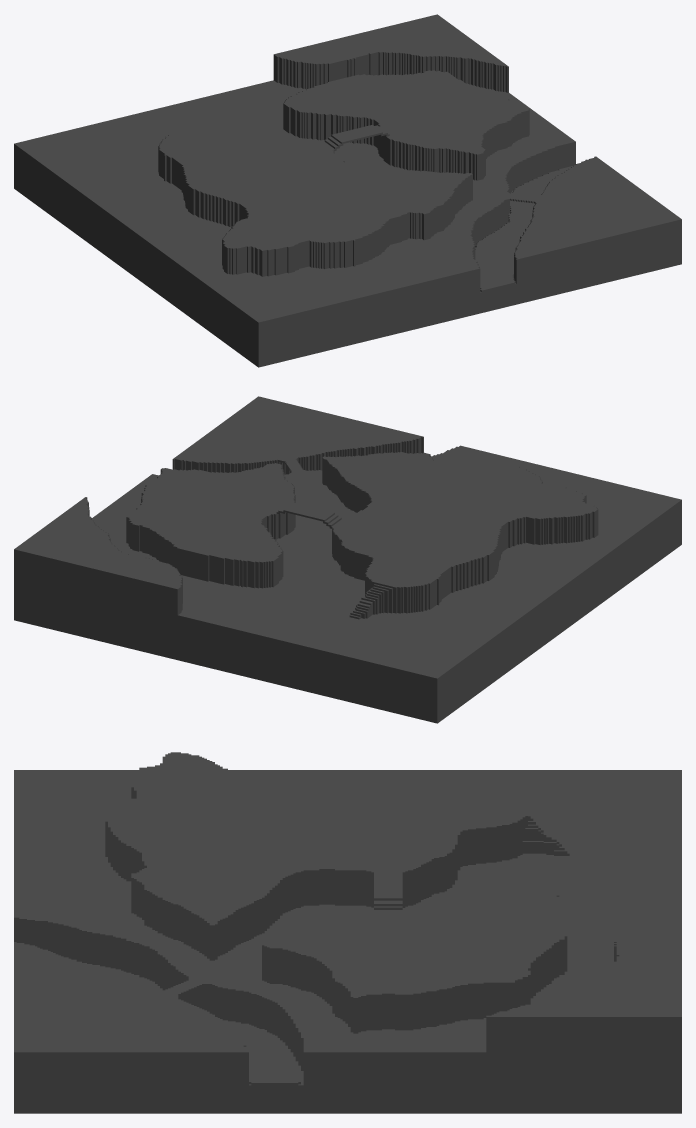
Rendered from Map0.1.obj.
3 renders of one model, top to bottom at view 1: azimuth 30°, elevation 25°; view 2: azimuth 150°, elevation 25°; view 3: azimuth 270°, elevation 25°, orthographic. The views are drawn at different scales.
Size of the model in its own units: 25.6 by 4.4 by 25.6.
1 material, 1 textured.
